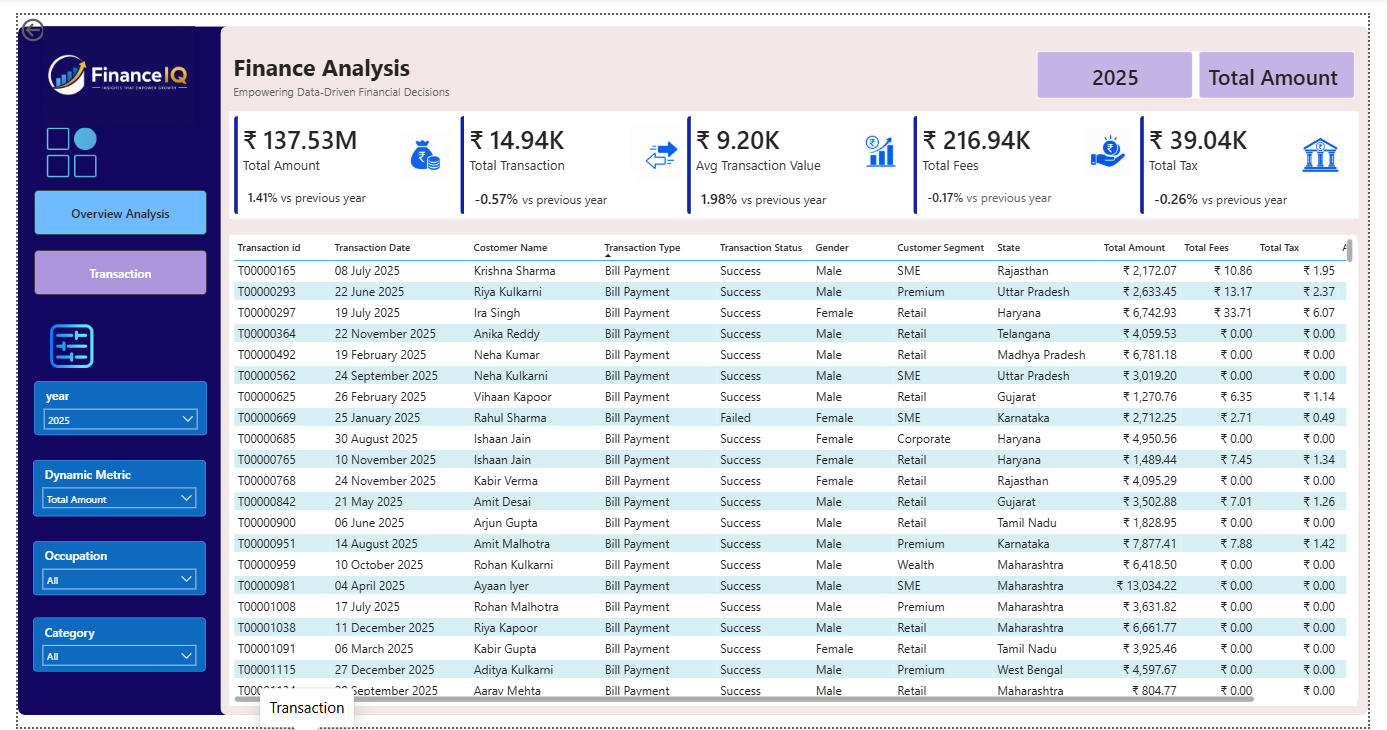

The page's visual inventory and layout, read from the dashboard file:
{"tool":"powerbi","page":{"name":"Transaction","canvas":[1800,950],"ordinal":1},"visuals":[{"type":"shape","box":[0,15,285,918.3],"z":0},{"type":"shape","box":[270,15,1530,918.3],"z":1000},{"type":"cardVisual","fields":{"Data":["finance_transactions.Dashboard Title"]},"box":[270,15,488.3,130],"z":3000},{"type":"cardVisual","fields":{"Data":["finance_transactions.Total Amount","finance_transactions.Total Transaction","finance_transactions.Avg Transaction Value","finance_transactions.Total Fees","finance_transactions.Total Tax"]},"box":[281.7,128.3,1506.7,143.3],"z":4000},{"type":"image","box":[490,155,103.3,66.7],"z":6000},{"type":"image","box":[796.7,145,103.3,66.7],"z":7000},{"type":"image","box":[1096.7,150,103.3,66.7],"z":8000},{"type":"image","box":[806.7,155,103.3,66.7],"z":9000},{"type":"image","box":[1401.7,150,103.3,66.7],"z":10000},{"type":"image","box":[1685,155,103.3,66.7],"z":11000},{"type":"shape","box":[281.7,293.3,1506.7,628.3],"z":13000},{"type":"cardVisual","fields":{"Data":["finance_transactions.Selected Year","finance_transactions.Selected Dynamic"]},"box":[1353.3,43.3,435,73.3],"z":14000},{"type":"tableEx","fields":{"Values":["finance_transactions.transaction_id","finance_transactions.transaction_date","customers.costomer_name","finance_transactions.transaction_type","finance_transactions.transaction_status","customers.gender","customers.customer_segment","customers.state","finance_transactions.Total Amount","finance_transactions.Total Fees","finance_transactions.Total Tax","finance_transactions.Avg Transaction Value"]},"box":[281.7,293.3,1503.3,628.3],"z":15000},{"type":"actionButton","box":[0,0,100,40],"z":16000},{"type":"slicer","fields":{"Values":["calender table.year"]},"box":[21.7,488.3,230,71.7],"z":16001},{"type":"slicer","fields":{"Values":["Dynamic Metric.Dynamic Metric"]},"box":[20,593.3,230,75],"z":16002},{"type":"slicer","fields":{"Values":["customers.occupation"]},"box":[20,701.7,230,71.7],"z":16003},{"type":"slicer","fields":{"Values":["finance_transactions.merchant_category"]},"box":[20,803.3,230,71.7],"z":16004},{"type":"pageNavigator","box":[21.7,233.3,230,141.7],"z":16005},{"type":"image","box":[20,408.3,103.3,66.7],"z":16006},{"type":"image","box":[20,150,103.3,66.7],"z":16007},{"type":"image","box":[0,15,270,135],"z":16008}]}

Visuals, with their boxes on the page's 1800x950 design canvas (x1, y1, x2, y2). These are canvas units, not pixel positions in the 1387x730 screenshot, which may show the page scaled, cropped or inside an application window:
shape: box=[0, 15, 285, 933]
shape: box=[270, 15, 1800, 933]
cardVisual - finance_transactions.Dashboard Title: box=[270, 15, 758, 145]
cardVisual - finance_transactions.Total Amount x finance_transactions.Total Transaction: box=[282, 128, 1788, 272]
image: box=[490, 155, 593, 222]
image: box=[797, 145, 900, 212]
image: box=[1097, 150, 1200, 217]
image: box=[807, 155, 910, 222]
image: box=[1402, 150, 1505, 217]
image: box=[1685, 155, 1788, 222]
shape: box=[282, 293, 1788, 922]
cardVisual - finance_transactions.Selected Year x finance_transactions.Selected Dynamic: box=[1353, 43, 1788, 117]
tableEx - finance_transactions.transaction_id x finance_transactions.transaction_date: box=[282, 293, 1785, 922]
actionButton: box=[0, 0, 100, 40]
slicer - calender table.year: box=[22, 488, 252, 560]
slicer - Dynamic Metric.Dynamic Metric: box=[20, 593, 250, 668]
slicer - customers.occupation: box=[20, 702, 250, 773]
slicer - finance_transactions.merchant_category: box=[20, 803, 250, 875]
pageNavigator: box=[22, 233, 252, 375]
image: box=[20, 408, 123, 475]
image: box=[20, 150, 123, 217]
image: box=[0, 15, 270, 150]
